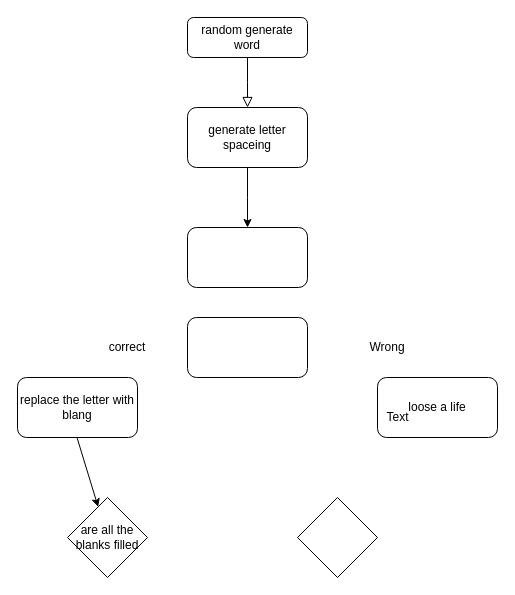
Image size: 515x595. Some labels were removed from this diagram. The shapes that lost their labels are listed below. From the top down, each one's centre as x and y in pixels, then its label:
At [247,257]: "user guess the word".
At [247,347]: "is the guess word correct or wrong".
